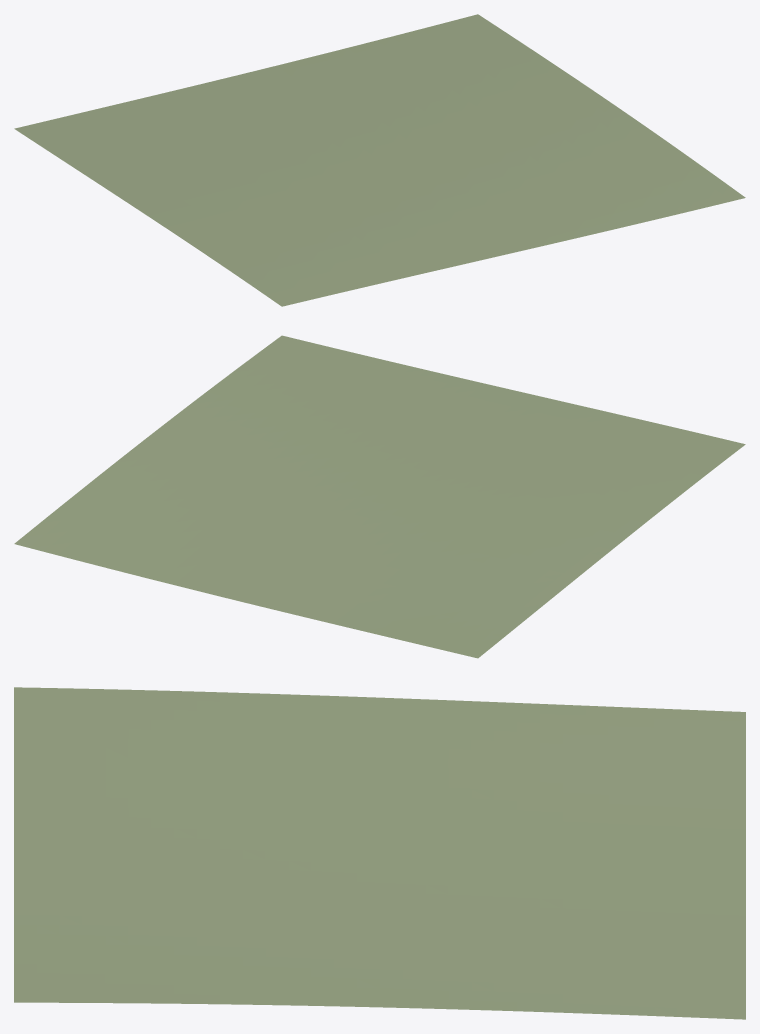
The model's file is expanse-29-1.glb.
The picture shows the model from 3 angles, top to bottom: view 1: azimuth 30°, elevation 25°; view 2: azimuth 150°, elevation 25°; view 3: azimuth 270°, elevation 25°; orthographic projection. The views are drawn at different scales.
Visible parts, largest first — view 1: expanse-29-1; view 2: expanse-29-1; view 3: expanse-29-1.
Part boxes in pixels (box(x1,y1,x2,y2)): expanse-29-1: box(14, 14, 745, 306); expanse-29-1: box(14, 335, 745, 658); expanse-29-1: box(14, 687, 745, 1019).
Bounding box in the file's own units: 256 × 10.09 × 256.
